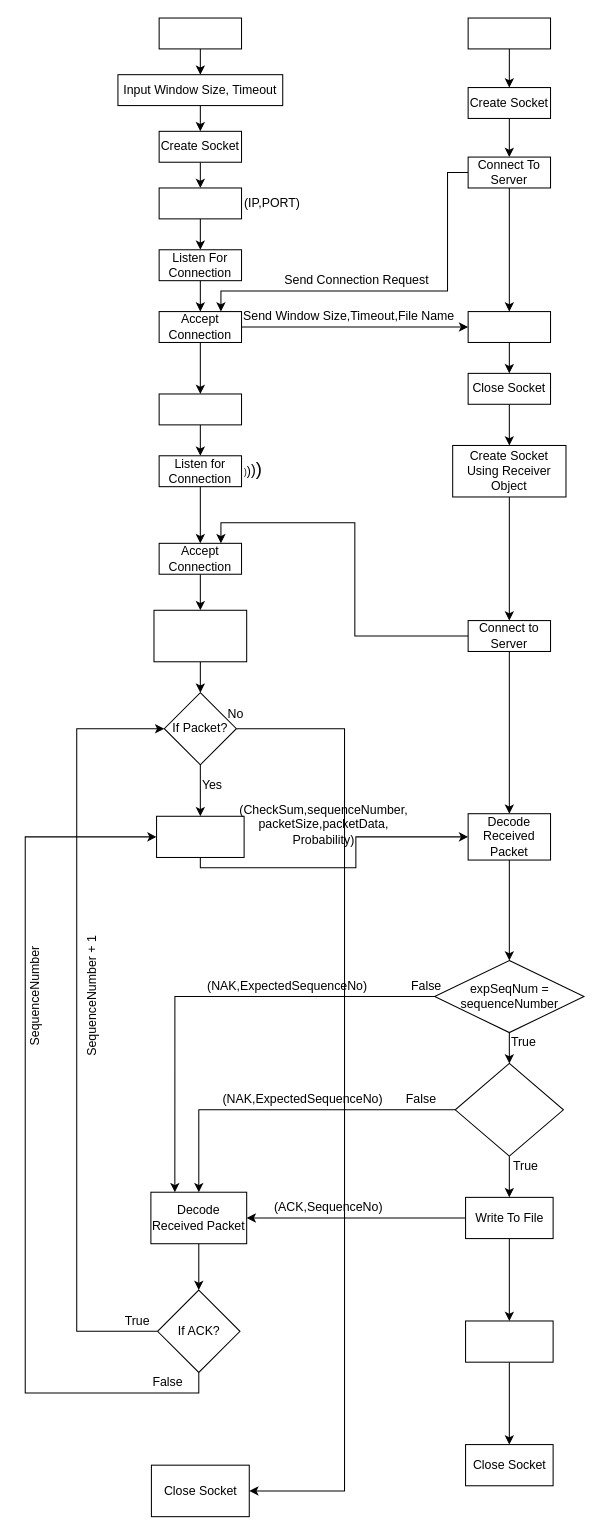
The diagram is 603 pixels wide and 1535 high, and some of its shapes have lost their labels. The shapes that lost their labels are listed below. From the top down, each one's centre as x and y in pixels, then its label:
At (x=200, y=33): "SERVER".
At (x=509, y=33): "CLIENT".
At (x=200, y=203): "Bind Socket".
At (x=509, y=326): "Receive Input Parameters".
At (x=200, y=409): "Close Active Connection".
At (x=200, y=635): "Start Transmitting File in Packets".
At (x=200, y=836): "Start Sending Packets".
At (x=508, y=1109): "If probability > 0.7".
At (x=509, y=1341): "File Transfer Complete".
